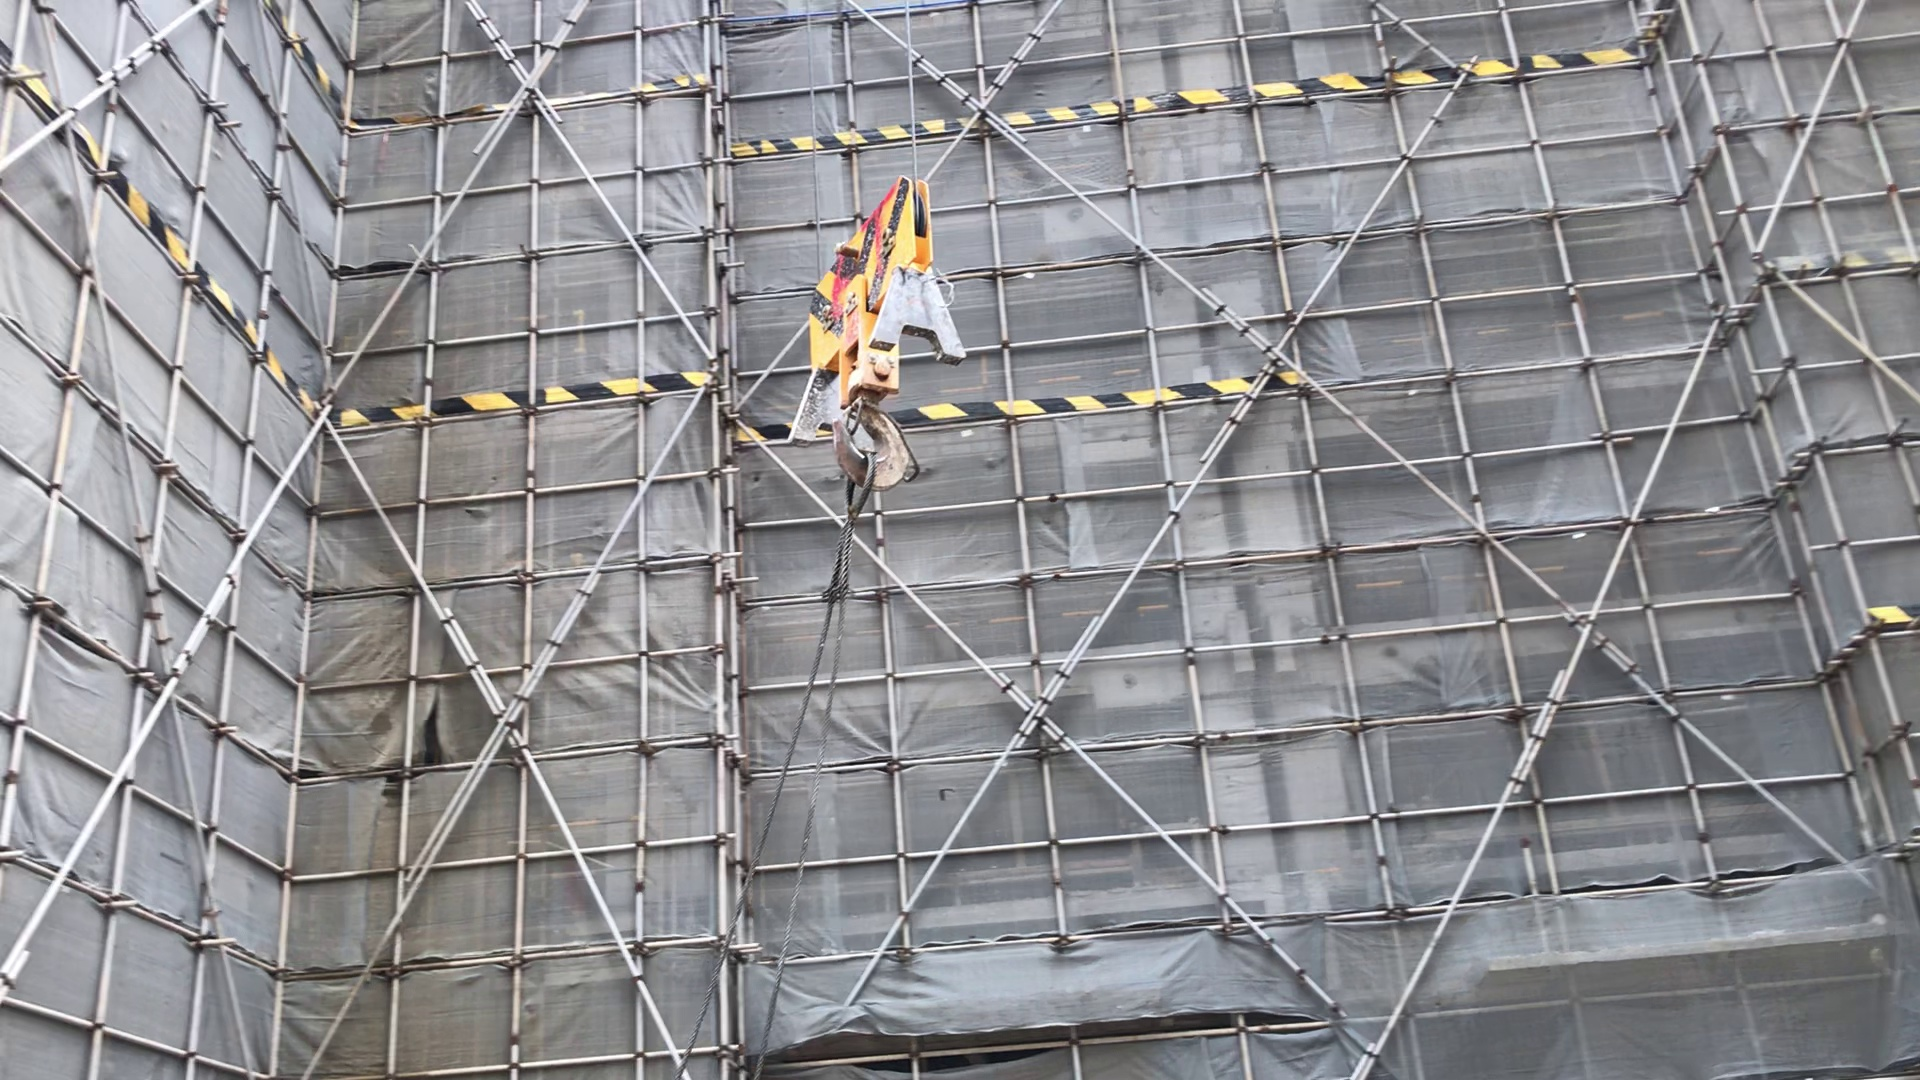hook: (798, 173, 971, 491)
